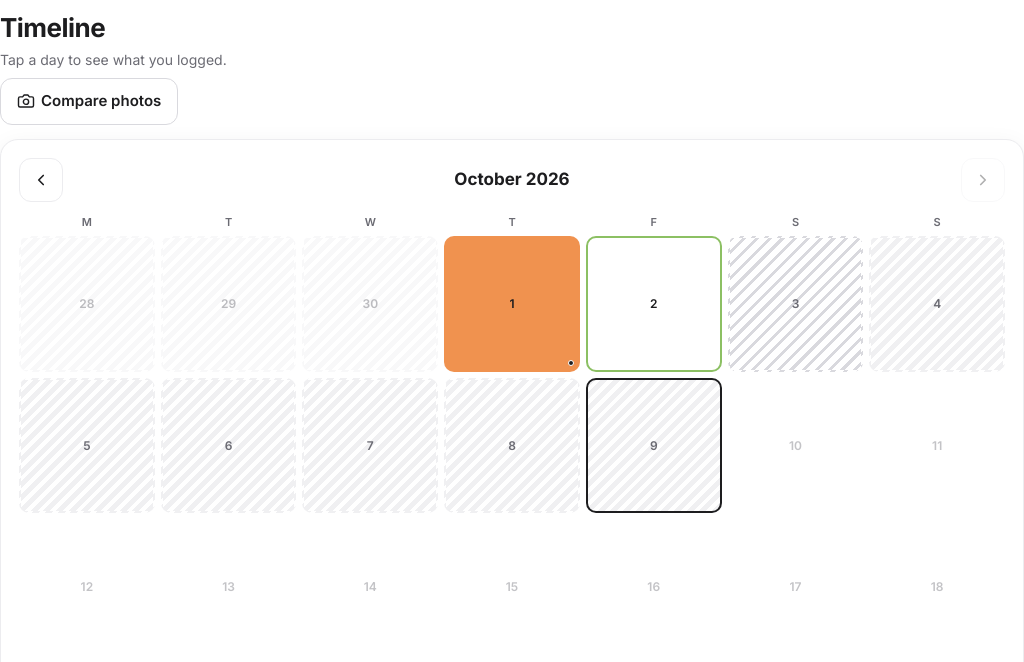
it: TimelineScreen › moves between months
The image size is (1024, 662).
expect the text "October 2026" is shown: met, box [454, 169, 570, 189]
Click the button named "Previous month".
click(41, 180)  # box [19, 158, 63, 202]
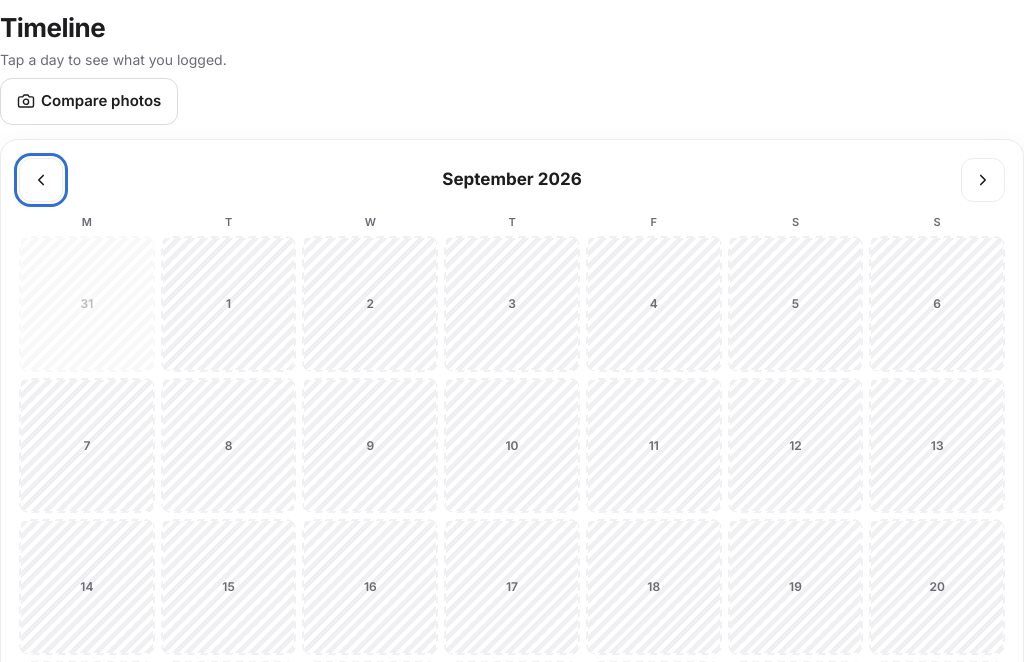
expect the text "September 2026" is shown: met, box [442, 169, 582, 189]
